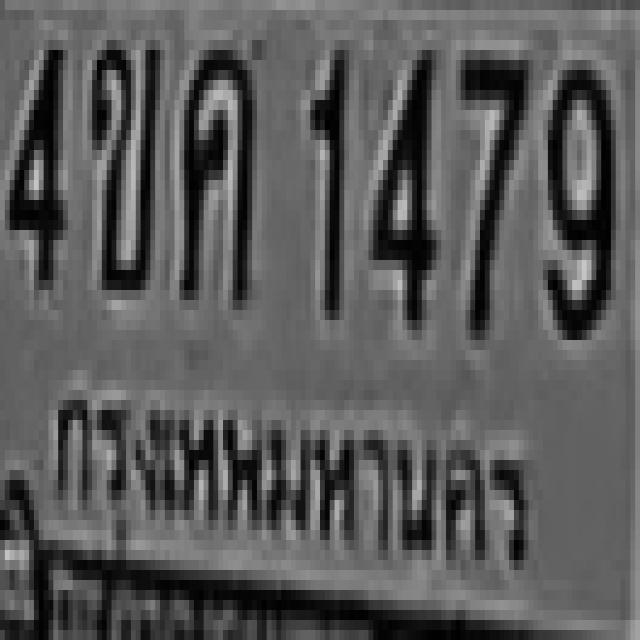1: (306, 40, 344, 310)
11KhorKhai: (85, 30, 157, 290)
13KhorKhwai: (180, 40, 252, 300)
4: (368, 40, 432, 320), (5, 30, 58, 280)
7: (456, 40, 524, 330)
9: (543, 50, 611, 330)
Bangkok: (46, 368, 538, 592)
